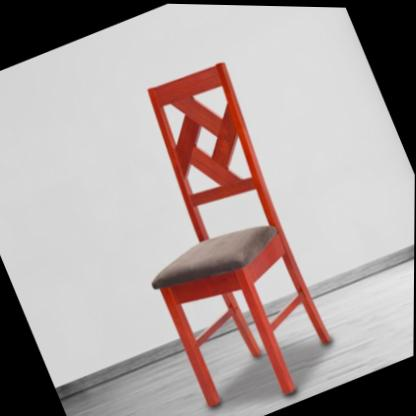Chair: (78, 55, 350, 416)
